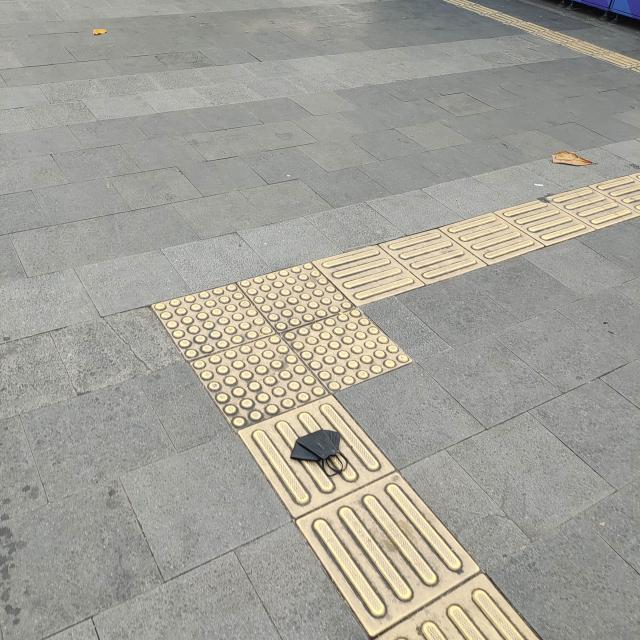kanan: (120, 205, 533, 461)
